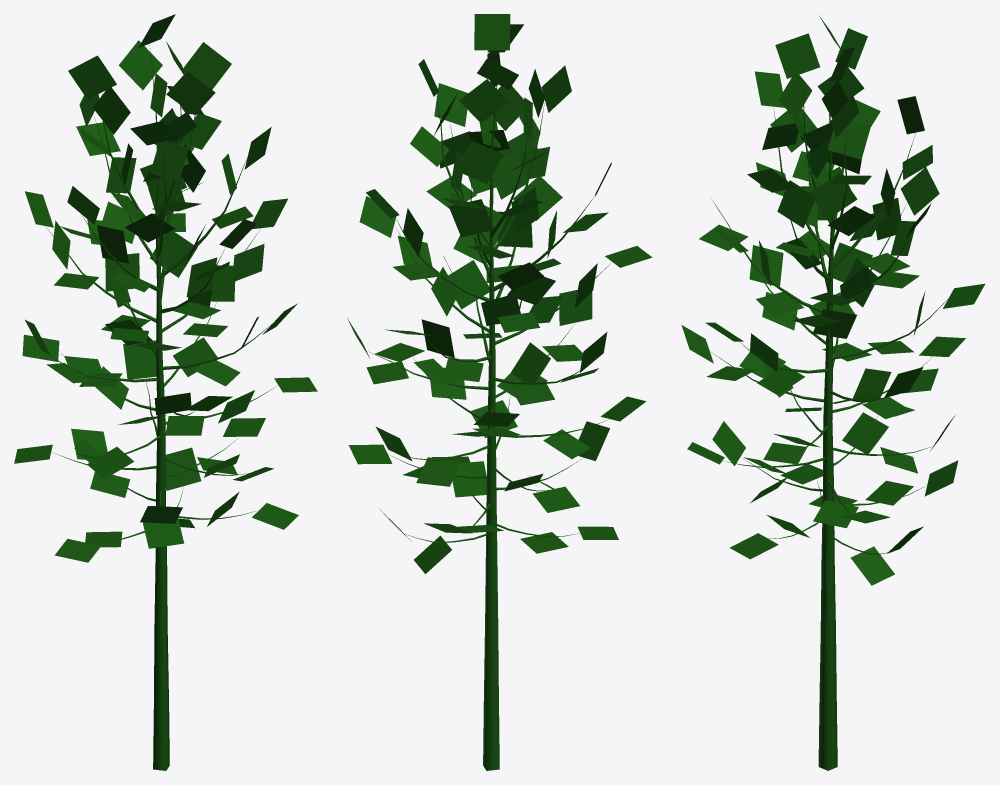
The model's file is Tree5.fbx.
3 renders of one model, left to right at view 1: azimuth 30°, elevation 25°; view 2: azimuth 150°, elevation 25°; view 3: azimuth 270°, elevation 25°, orthographic.
Visible parts, largest first — view 1: Tree5; view 2: Tree5; view 3: Tree5.
Part boxes in pixels (left/top/right/bottom): Tree5: left=14, top=14, right=317, bottom=770; Tree5: left=347, top=14, right=652, bottom=770; Tree5: left=681, top=16, right=984, bottom=770.
Bounding box in the file's own units: 720 × 2038 × 753.
